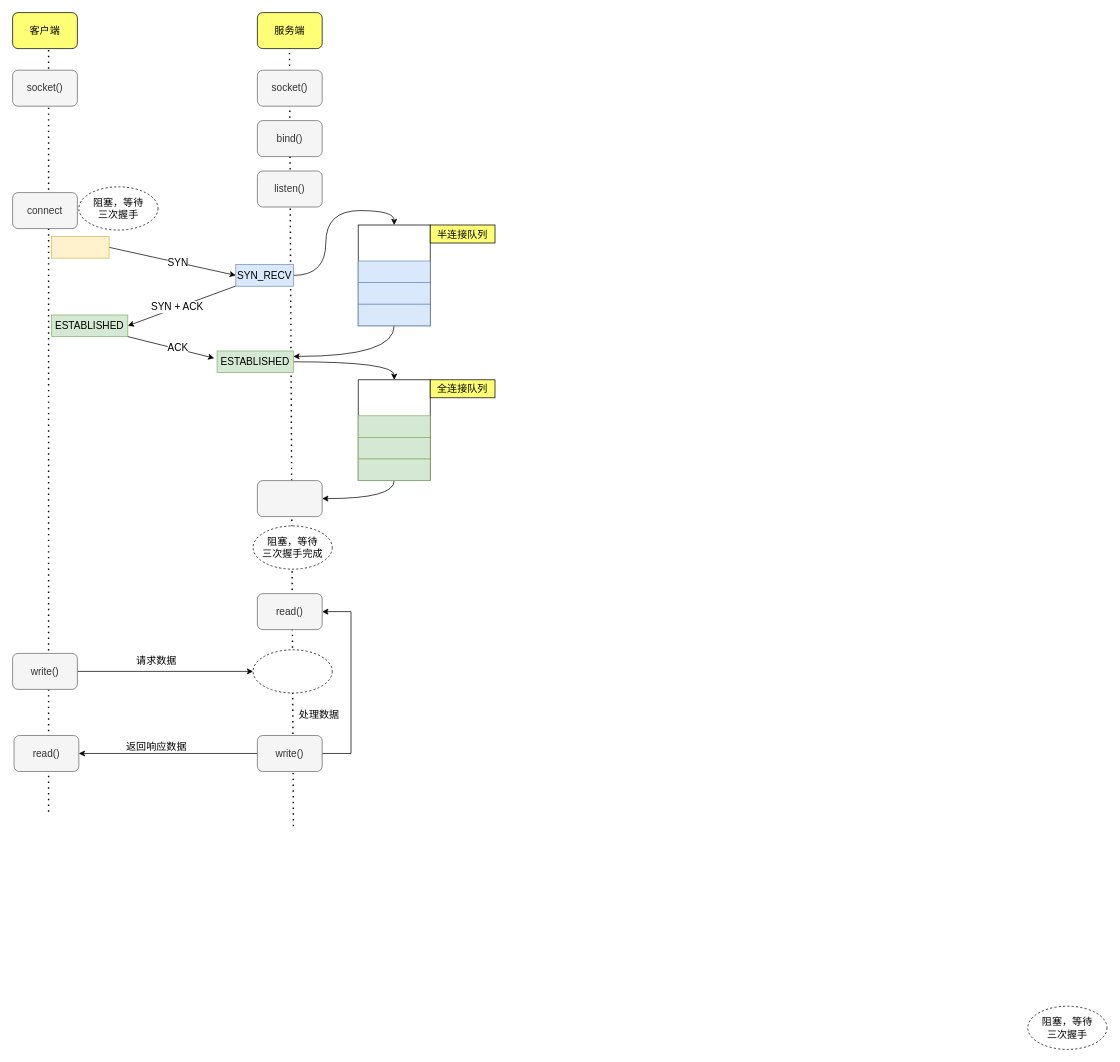
The diagram is 1120 pixels wide and 1062 high, and some of its shapes have lost their labels. The shapes that lost their labels are listed below. From the top down, each one's centre as x and y in pixels, then its label:
point (80, 247): SYN_SENT
point (289, 498): accept()
point (292, 671): 阻塞，等待 读数据就绪
